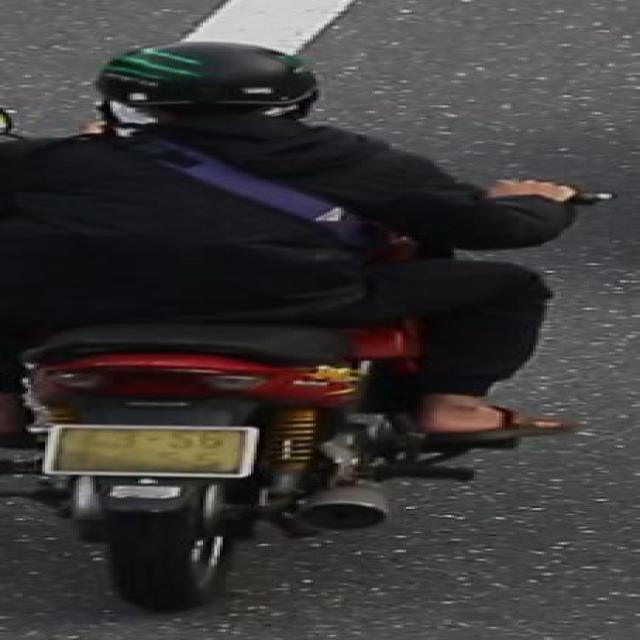LP: (17, 419, 271, 489)
helmet: (92, 38, 334, 128)
